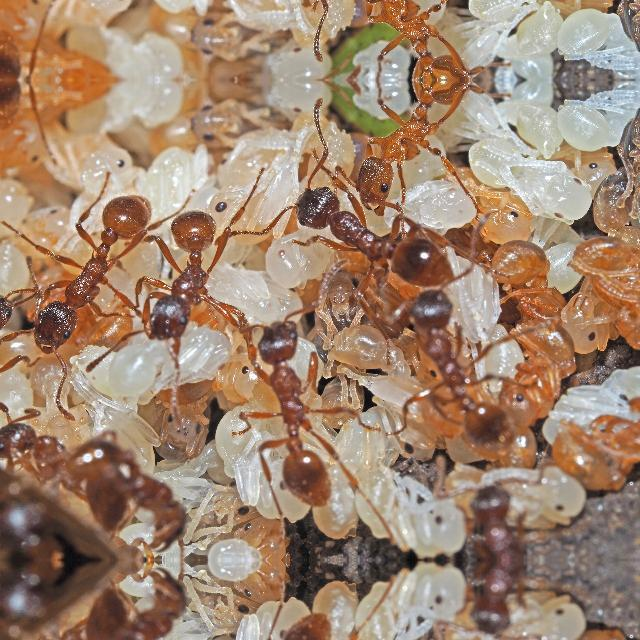Myrmica: (220, 314, 358, 512), (13, 186, 168, 360), (378, 298, 526, 460), (334, 80, 500, 200), (286, 174, 452, 290), (123, 200, 245, 354), (71, 428, 203, 544), (334, 0, 498, 80), (484, 232, 582, 358), (0, 398, 120, 490), (0, 80, 90, 188), (71, 574, 203, 640), (446, 479, 556, 558), (446, 560, 554, 640), (0, 0, 90, 80)
